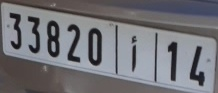0: (87, 26, 104, 67)
1: (165, 40, 180, 83)
2: (64, 22, 84, 63)
3: (26, 14, 41, 54), (8, 10, 22, 52)
4: (188, 43, 206, 87)
8: (45, 18, 61, 60)
a: (128, 34, 138, 73)
